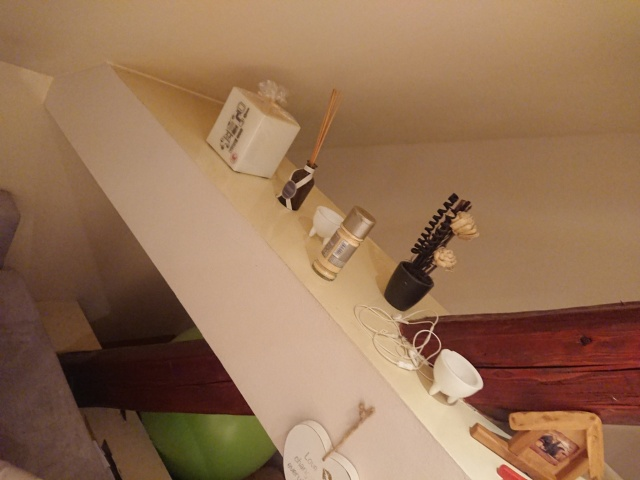Kotanyi Garlic Granules 70g: (310, 204, 378, 283)
